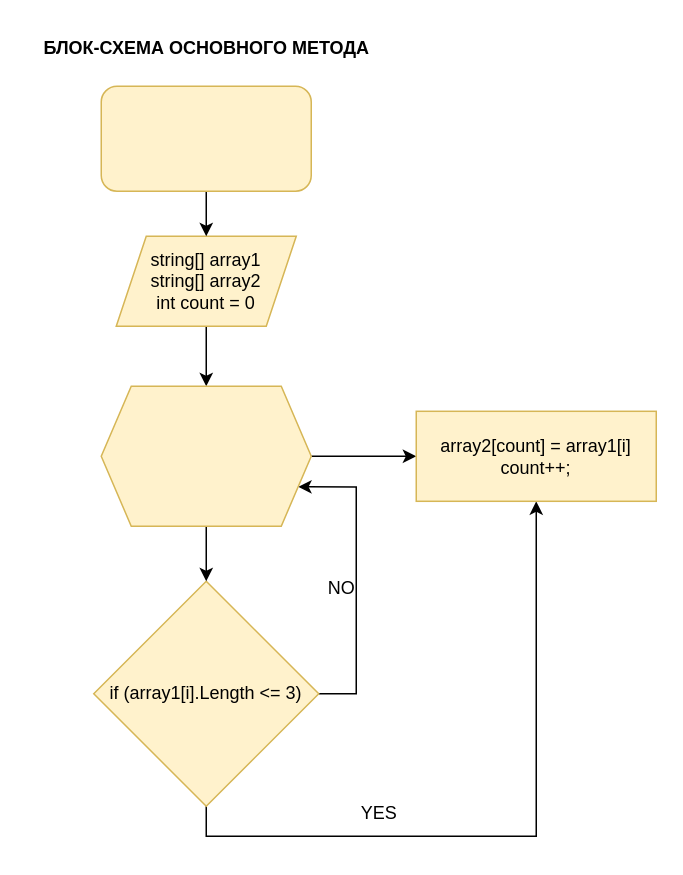
Some shapes in this 683 by 875 pixel diagram are drawn without their labels. Here are the shapes that lost their labels. From the top down, the centre of each, then its label:
At (205,138): "SecondArrayTwoSymb".
At (205,455): "for (int i = 0; i < array1.Length; i++)".
